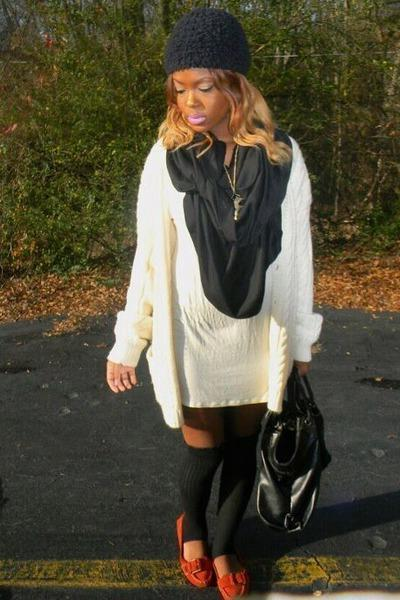dress: (163, 128, 281, 411)
jacket: (106, 117, 322, 431)
